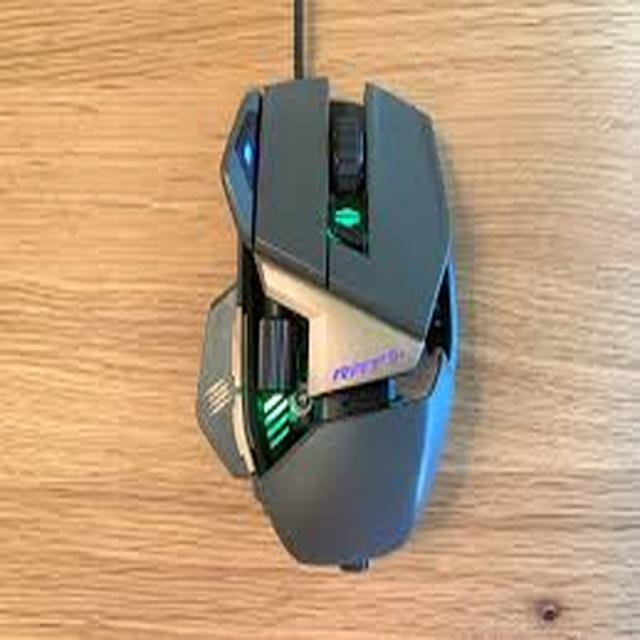mouse: (146, 50, 482, 604)
